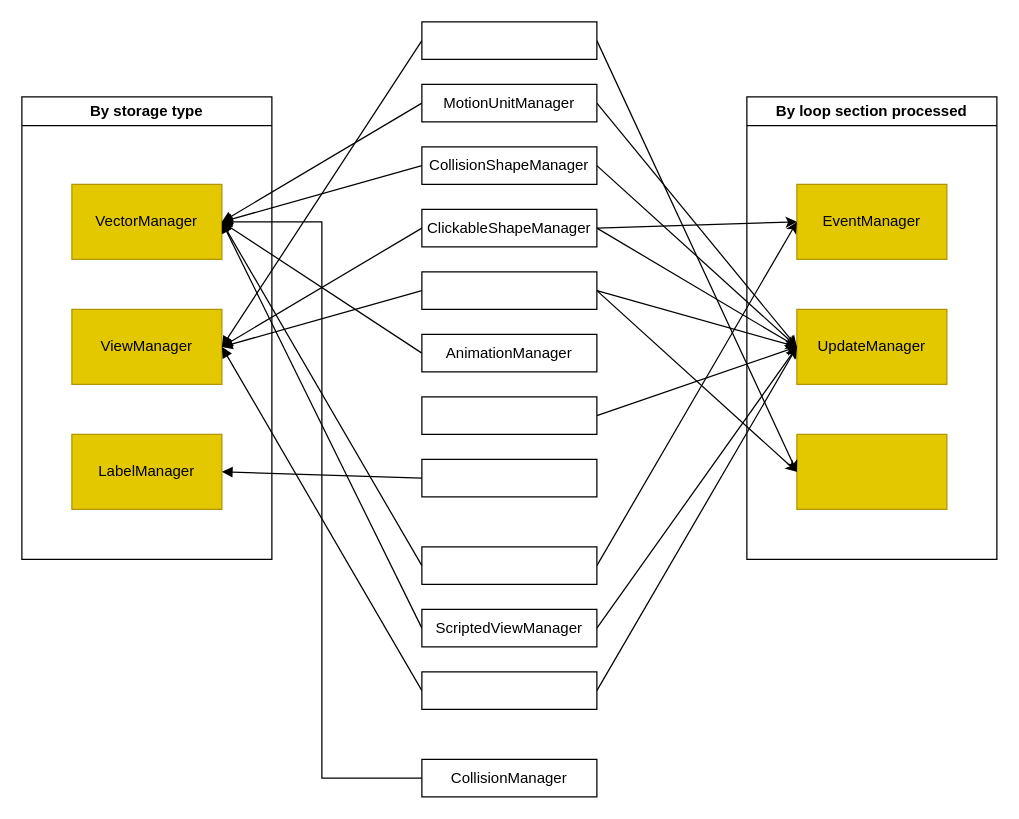
Some shapes in this 1019 by 819 pixel diagram are drawn without their labels. The centre of each missing label's shape, as x and y in pixels:
"ControllerManager" belongs at pixel 509 565.
"DebugEntityManager" belongs at pixel 509 690.
"DrawManager" belongs at pixel 871 471.
"SceneManager" belongs at pixel 509 477.
"SpriteManager" belongs at pixel 509 40.
"SpriteTextManager" belongs at pixel 509 290.
"StateManager" belongs at pixel 509 415.
